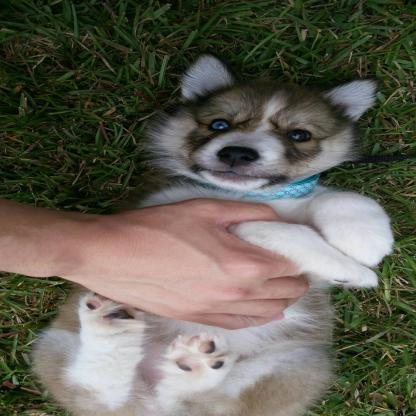husky: (25, 51, 390, 416)
